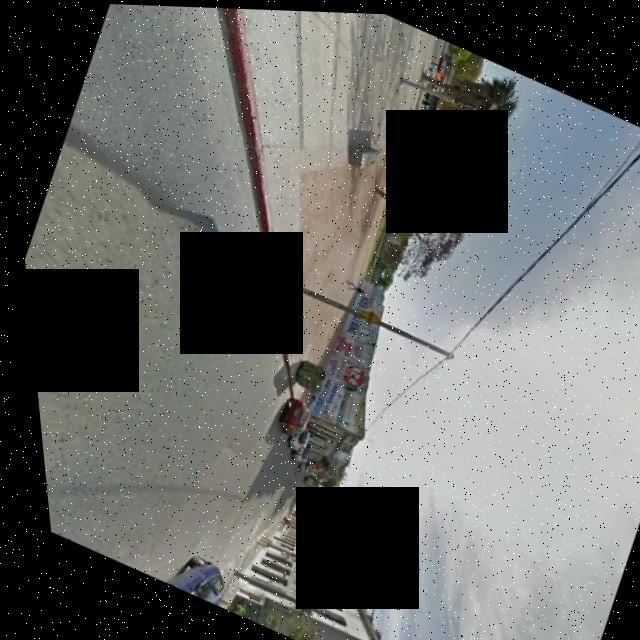bin: (268, 345, 327, 402)
